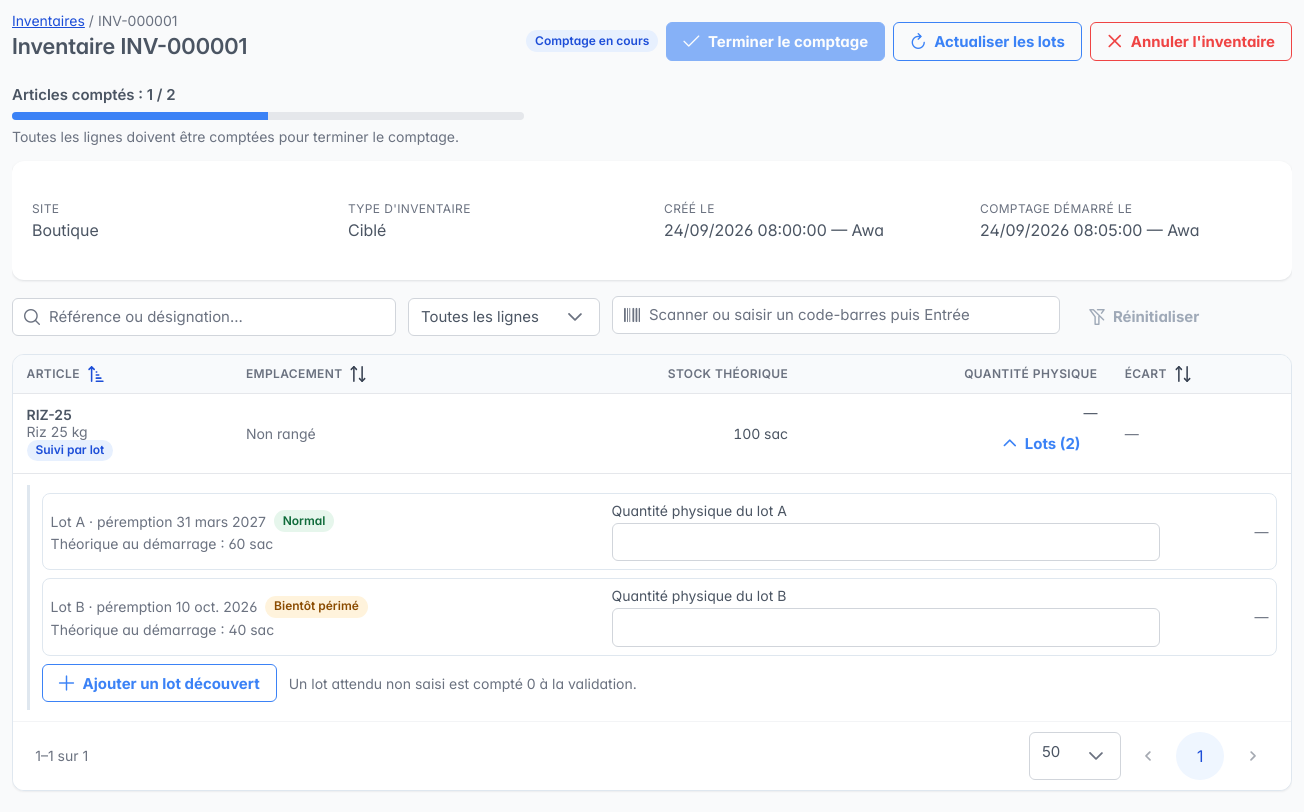
Test case: inventaire par lot (Lot 3-H) › saisie invalide : message, aucun envoi
The image size is (1304, 812).
Type "abc" into the field labelled "Quantité physique du lot A" at (886, 542), box [612,522,1160,561]
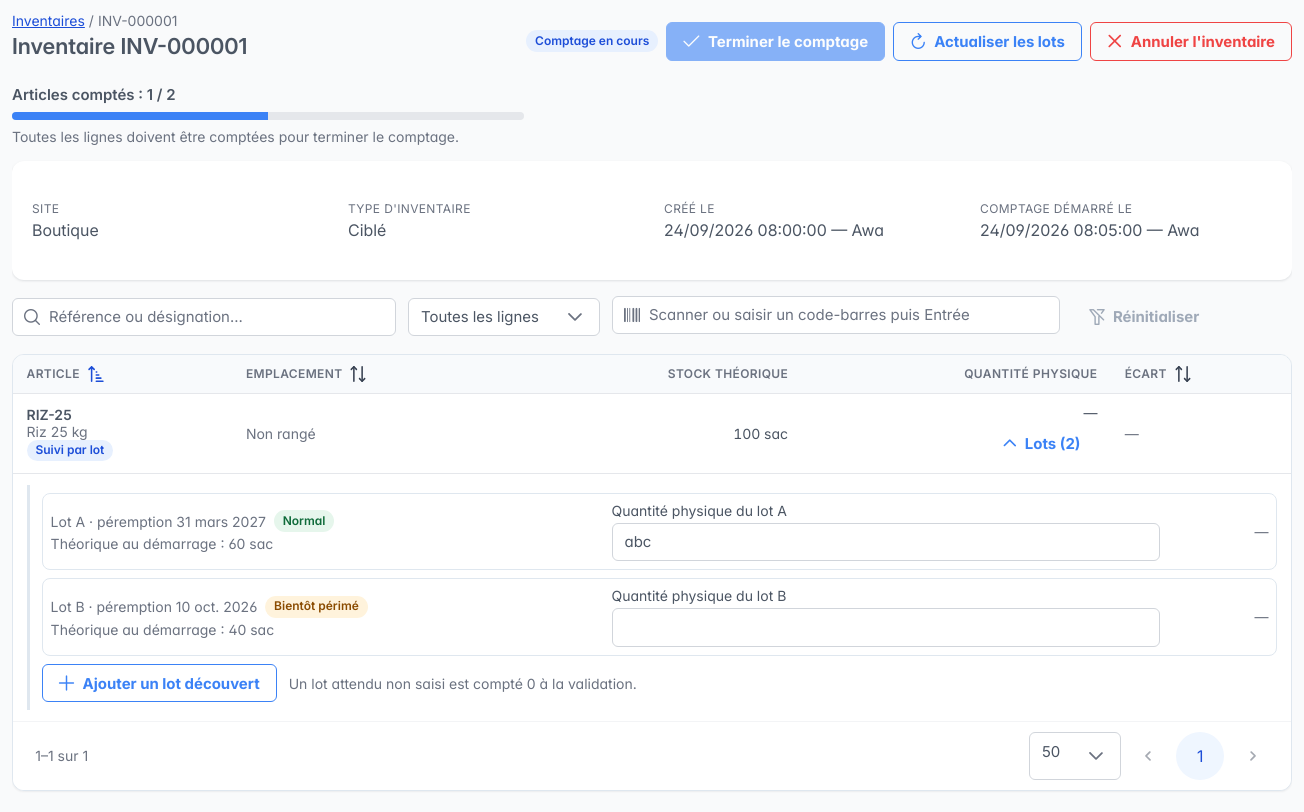
Leave the field labelled "Quantité physique du lot A", box [612,522,1160,561]
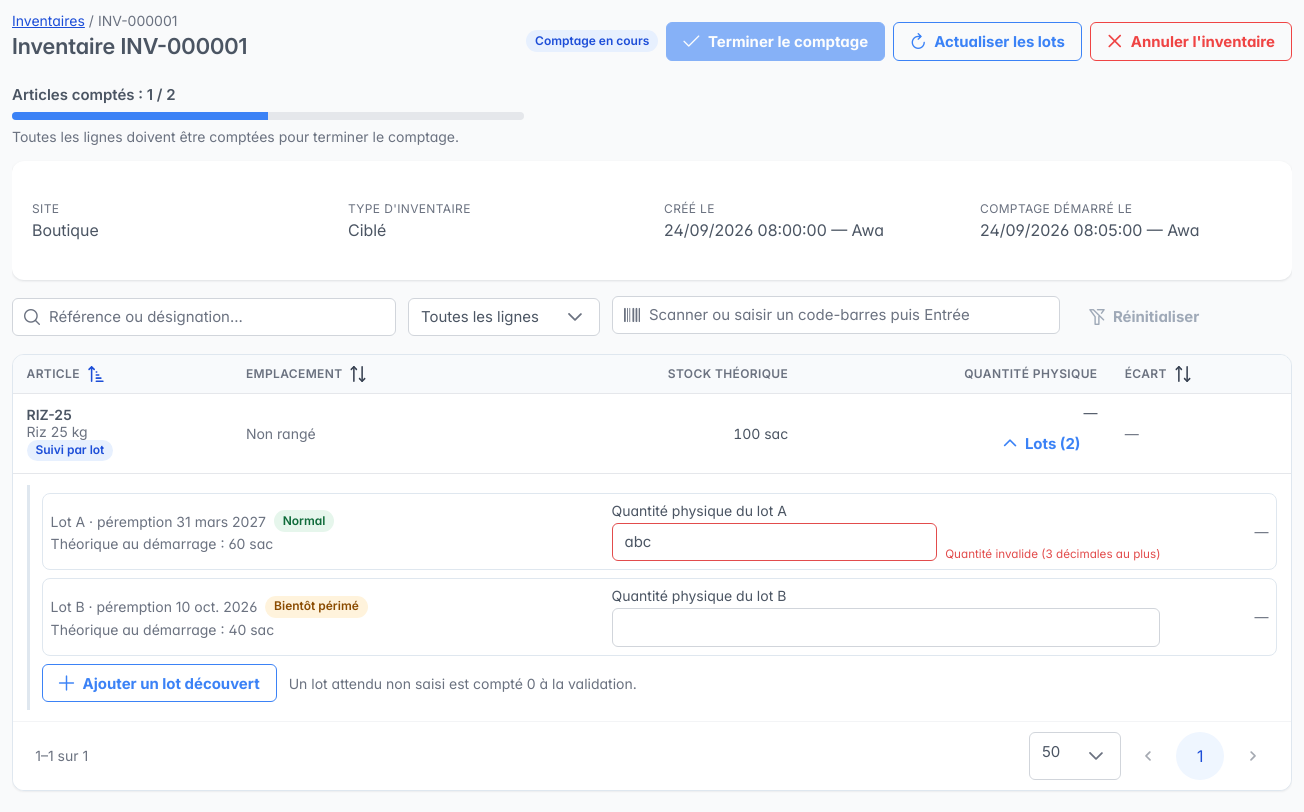
Now the message "Quantité invalide (3 décimales au plus)" is shown, box [945,547,1160,561]
